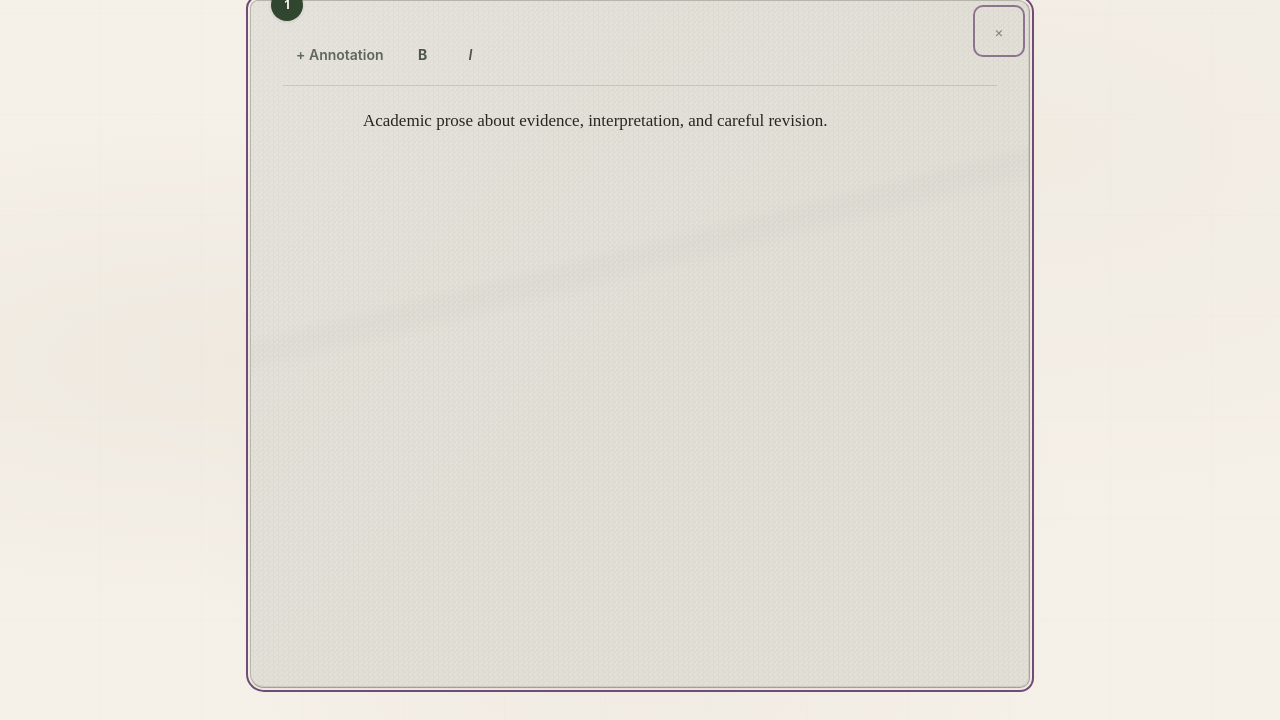
Test: StoneSlab V2 › does not delete before confirmation and restores focus after Escape
Click the button named "Delete stone slab 1" at (999, 31), box [977, 9, 1021, 53]
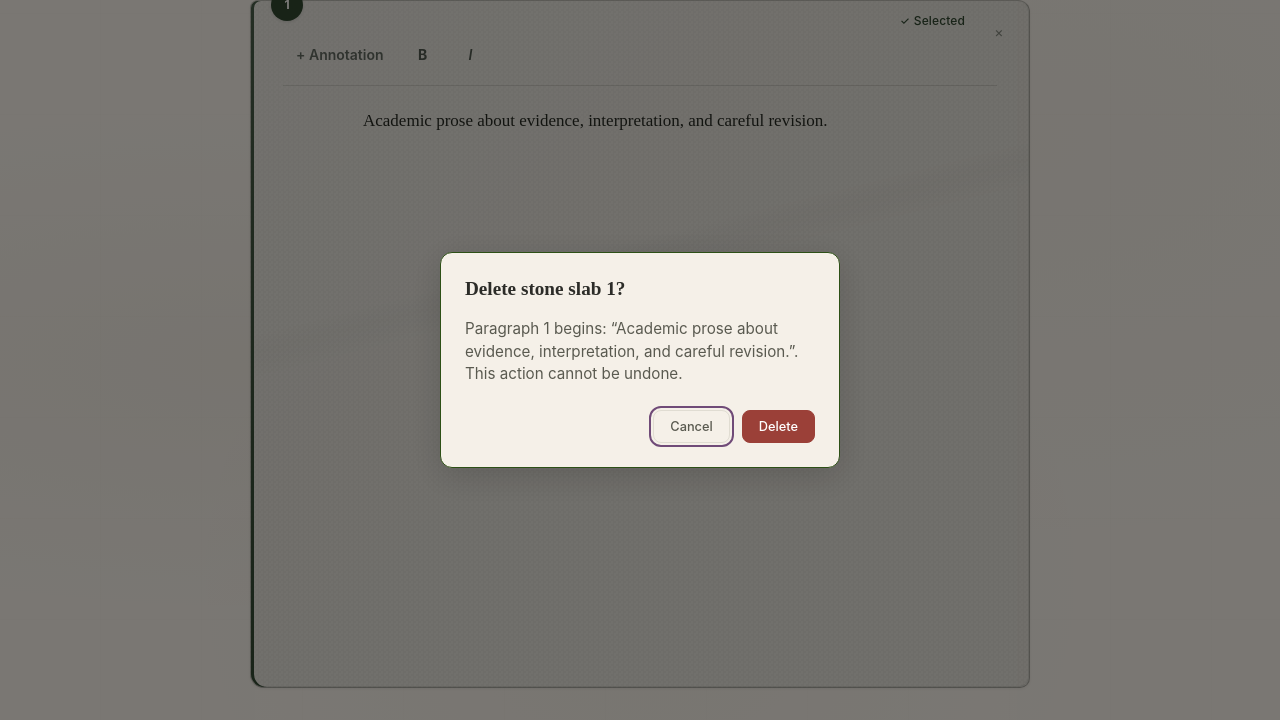
Expected: the dialog "Delete stone slab 1?" shows "Academic prose about evidence", [465, 319, 798, 383]
Press Escape in the element that starts with "Delete stone slab 1?"
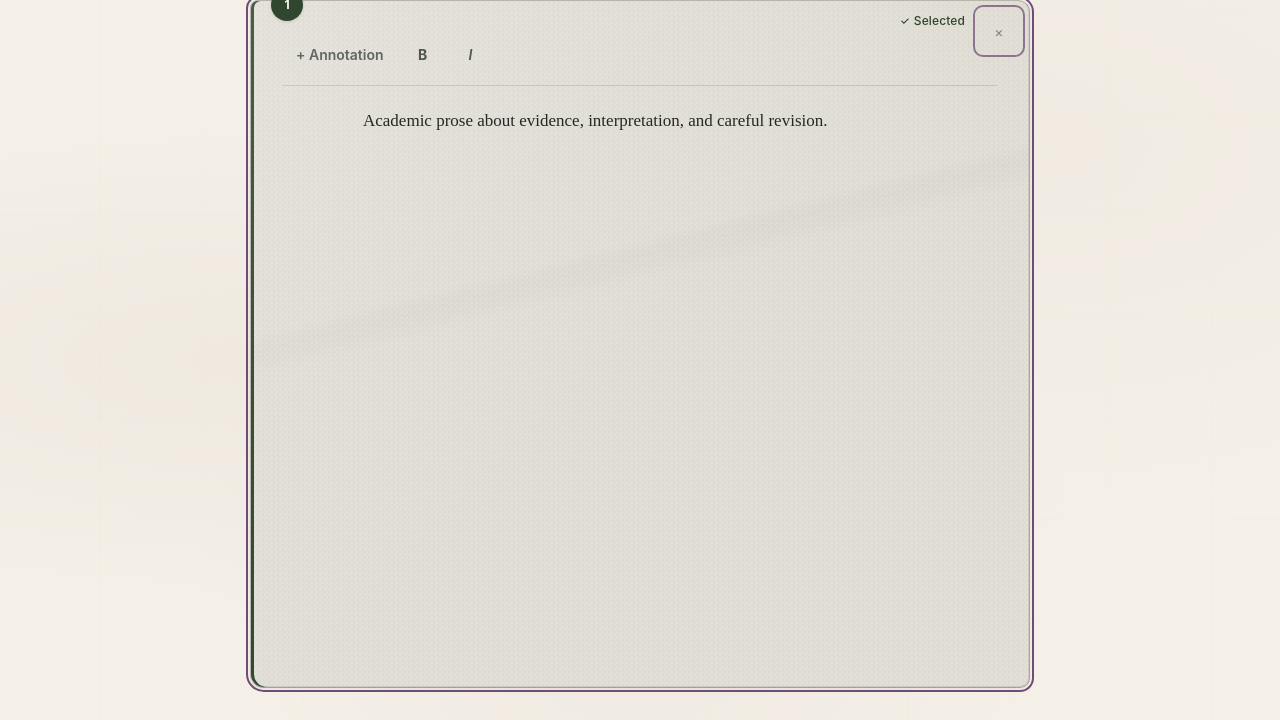
Expected: the dialog is gone
